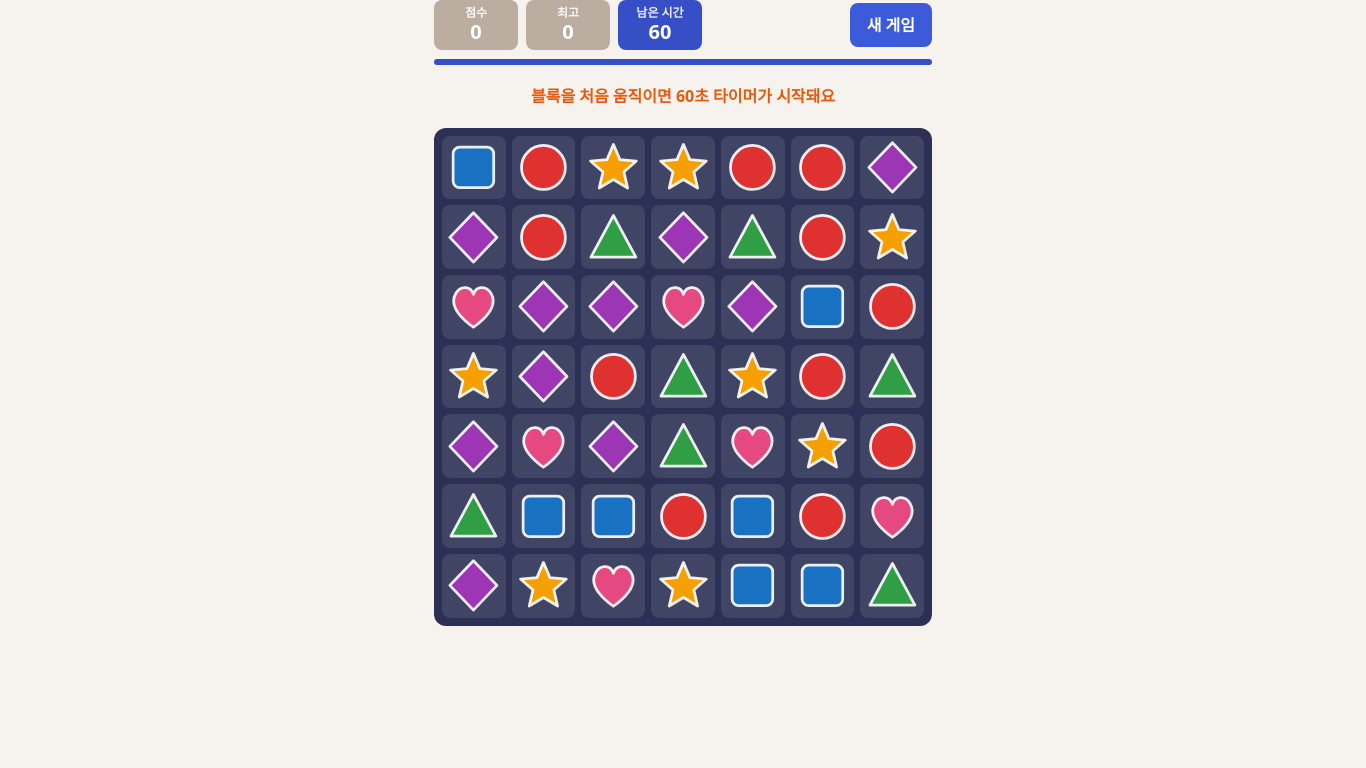
Match3Game 화면 › 탭이 숨겨지면 타이머가 멈추고, 계속하기로 재개한다 (FR-006)
This screenshot has width=1366, height=768.
Click the button named "파란 사각형, 1행 1열": [474, 167] box [442,136,506,199]
Wait 30000 ms
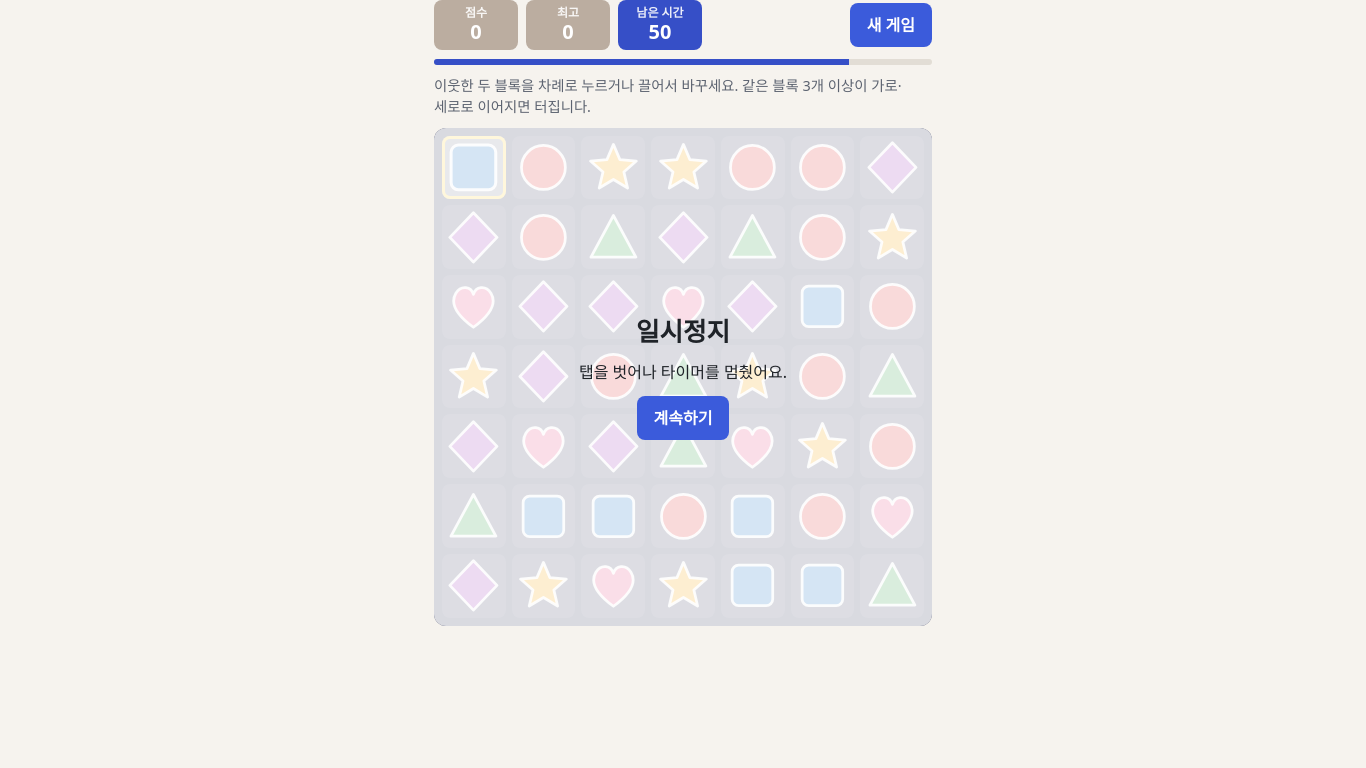
Expected: the text "일시정지" is shown, [636,313,730,352]
Click the button "계속하기": [683, 418] box [636,396,729,440]
Wait 5000 ms
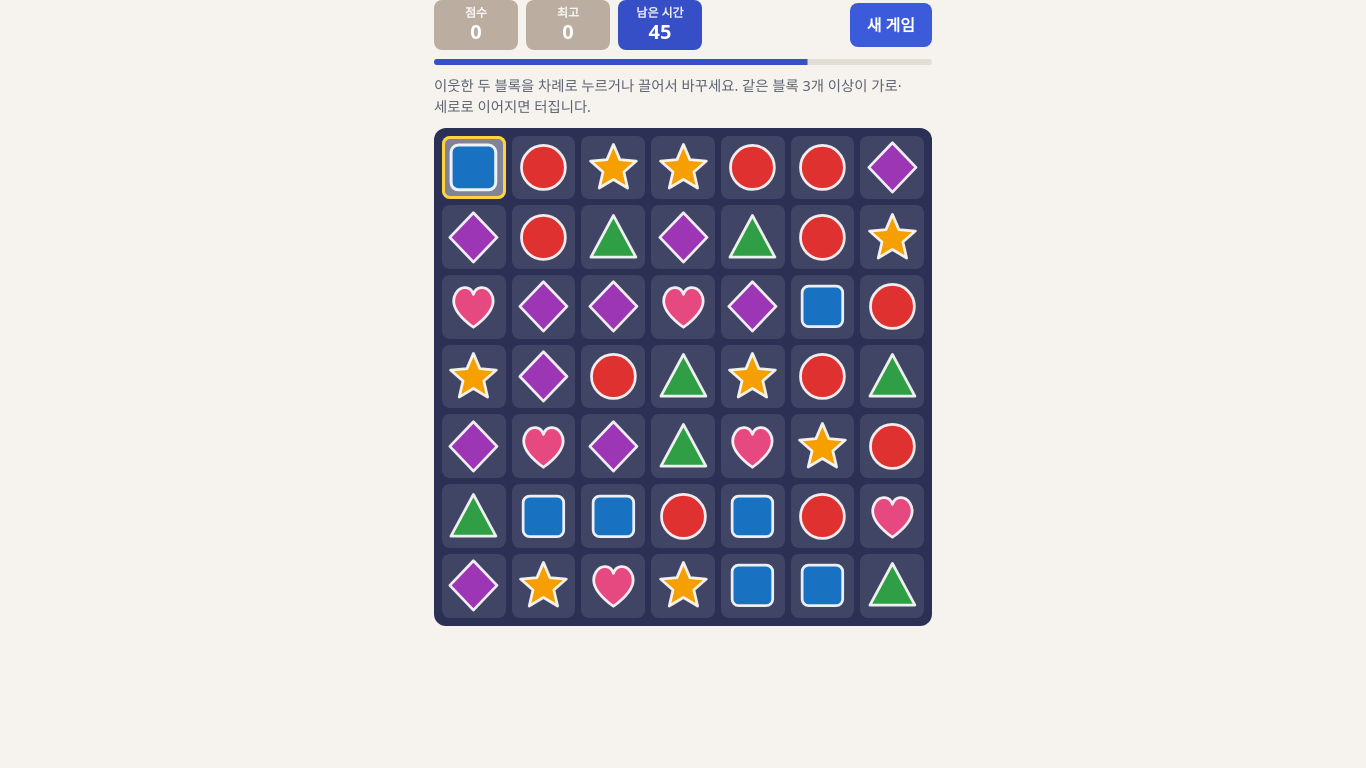
Expected: the text "일시정지" is gone
